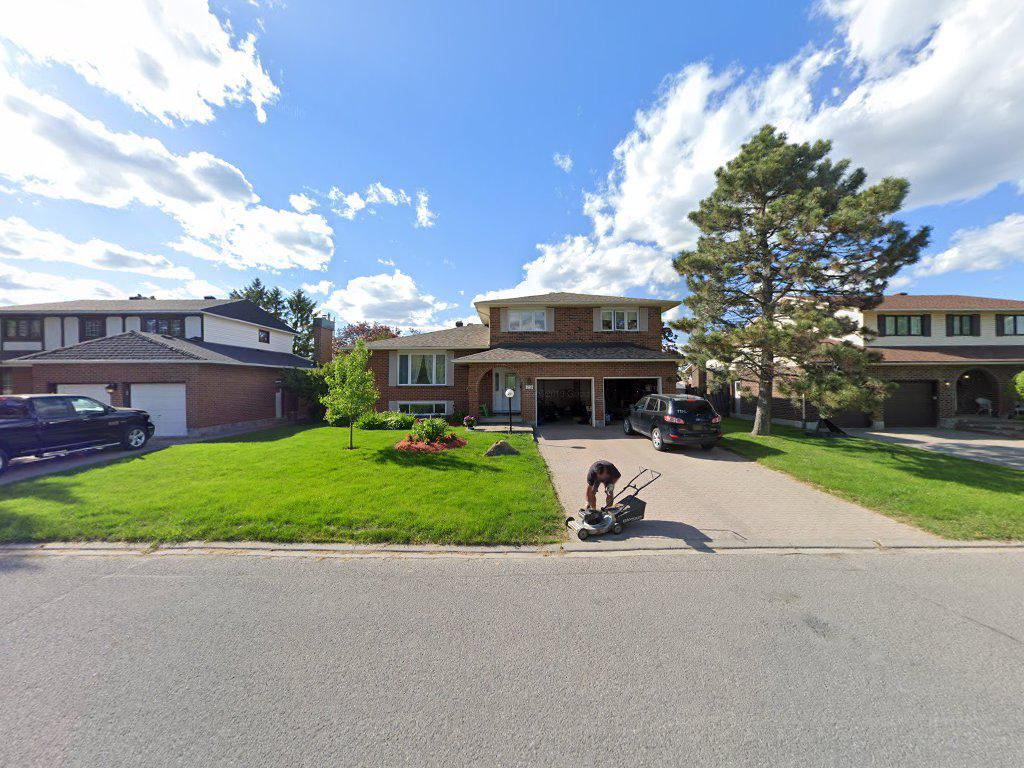trunk: (754, 353, 776, 448)
